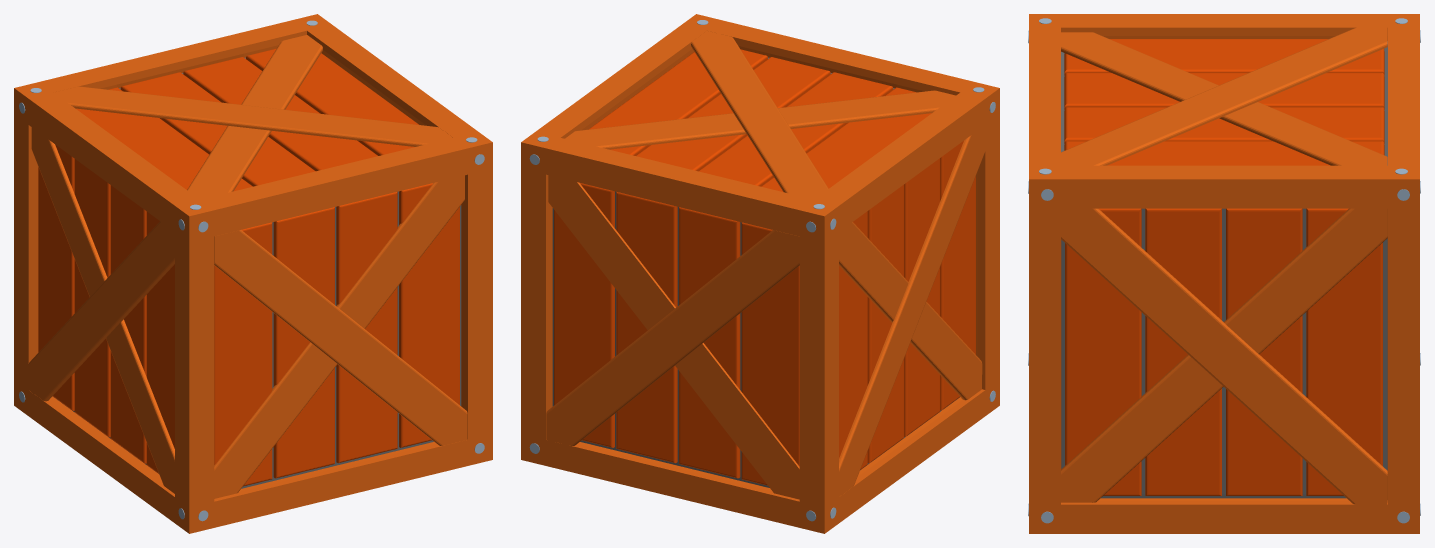
Rendered from 4x2 kutija final.fbx.
3 views of the same model, side by side, from view 1: azimuth 30°, elevation 25°; view 2: azimuth 150°, elevation 25°; view 3: azimuth 270°, elevation 25° (orthographic). The views are drawn at different scales.
Parts seen in each view (by area): view 1: Cube.207; view 2: Cube.207; view 3: Cube.207.
Boxes of the visible parts, bbox=[...] form: Cube.207: bbox=[14, 14, 492, 533]; Cube.207: bbox=[521, 14, 999, 533]; Cube.207: bbox=[1028, 14, 1420, 533].
Bounding box in the file's own units: 201 × 200 × 201.
